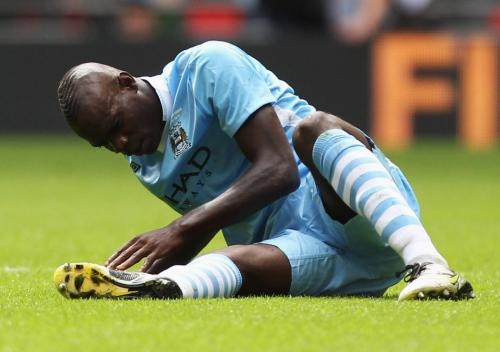falling: (36, 19, 475, 303)
